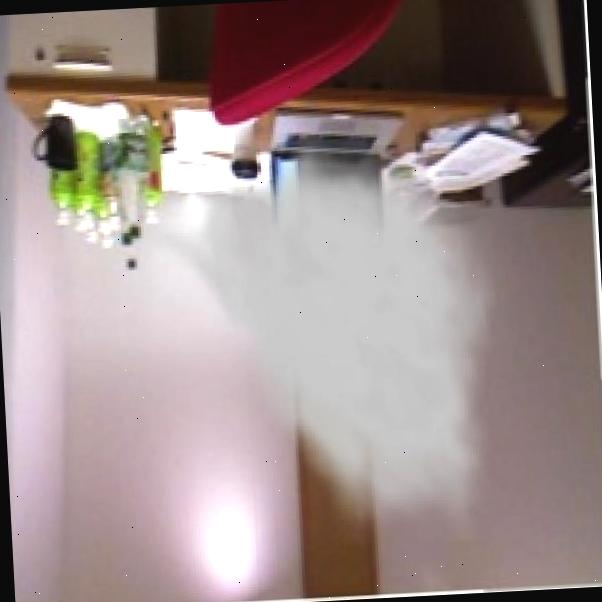smoke: (124, 117, 509, 561)
